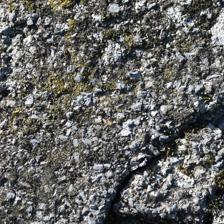Crack: (99, 104, 221, 217)
